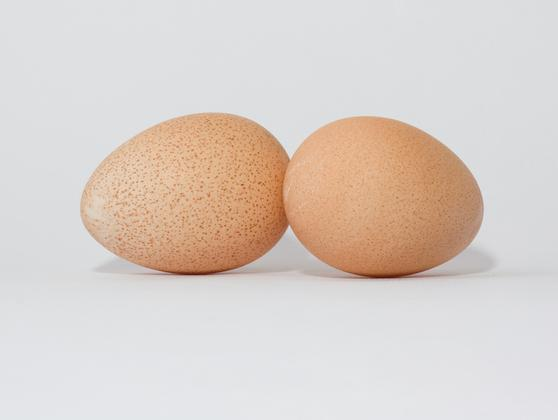egg: (281, 113, 485, 277)
